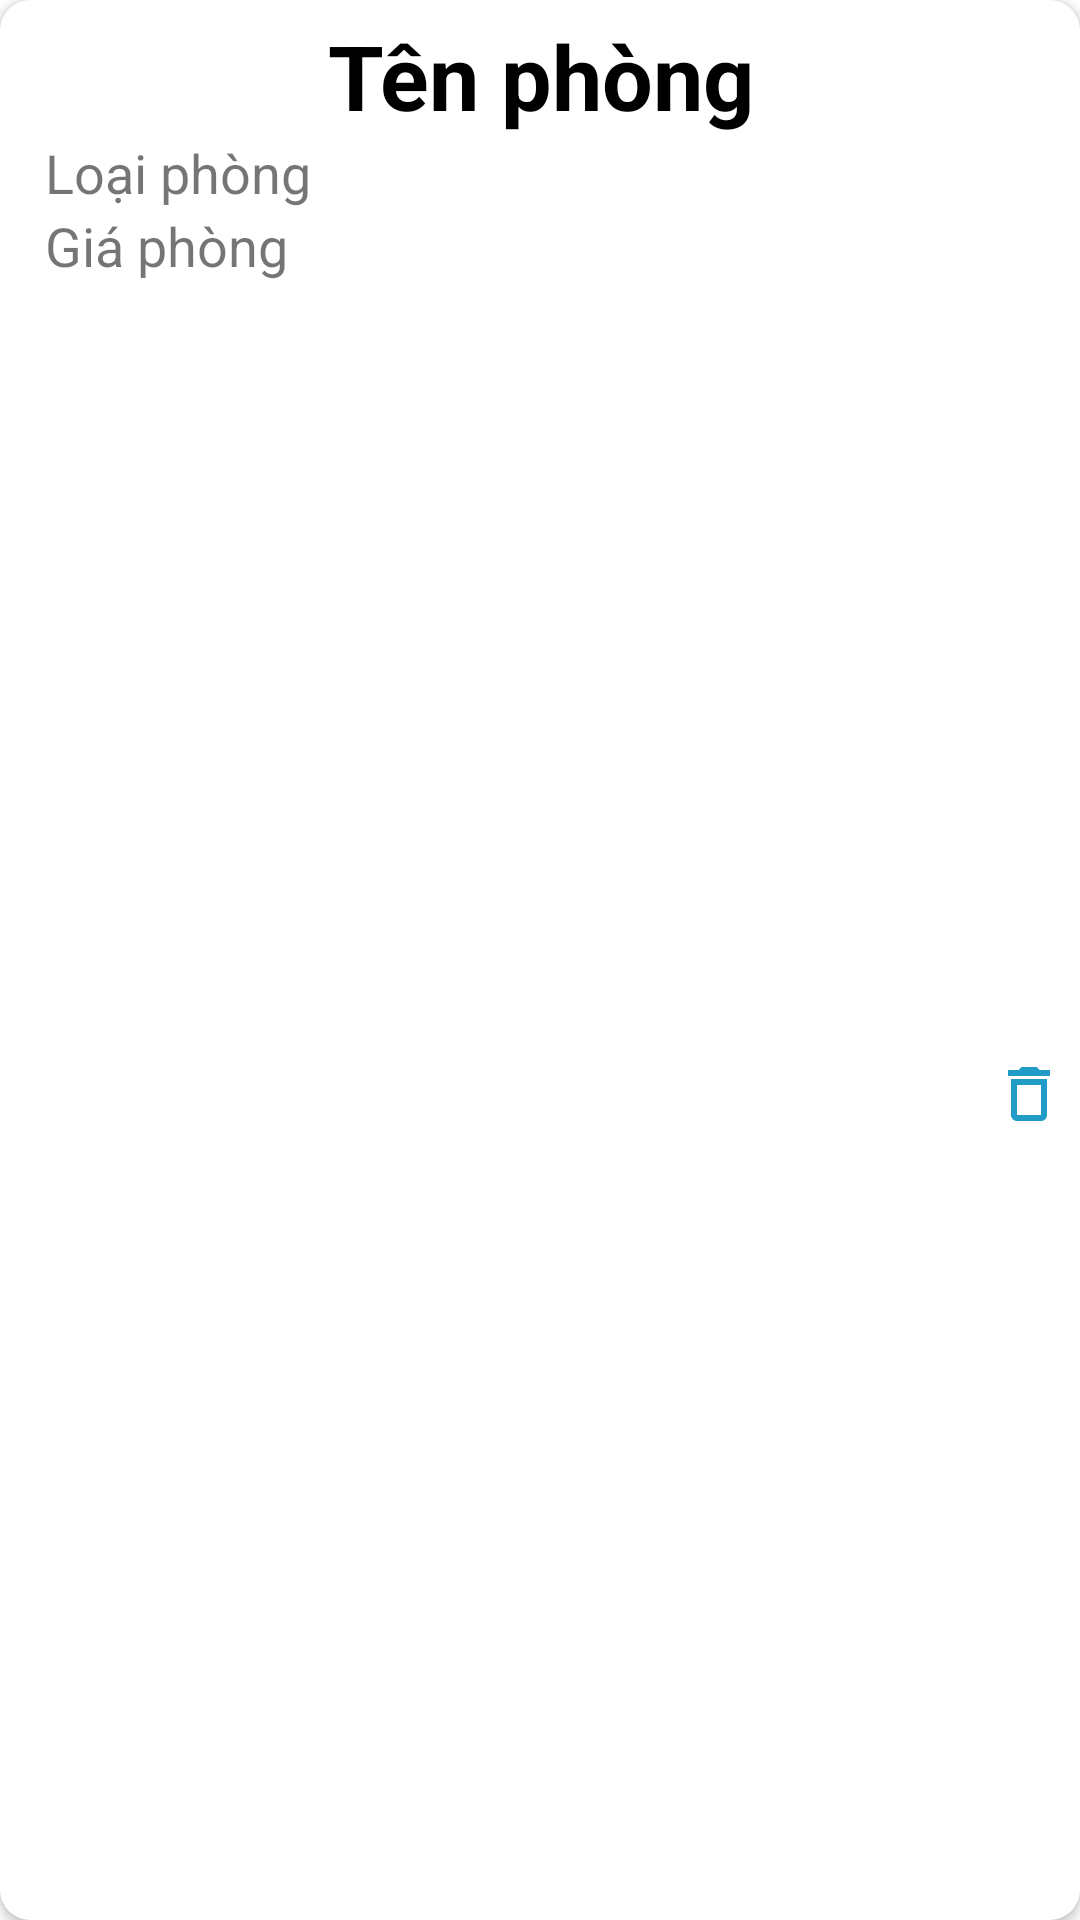

Screen size 1080 × 1920. Icon name, then its box in pixels as (x1, y1, x2, y2):
delete: (1008, 1067, 1050, 1121)
